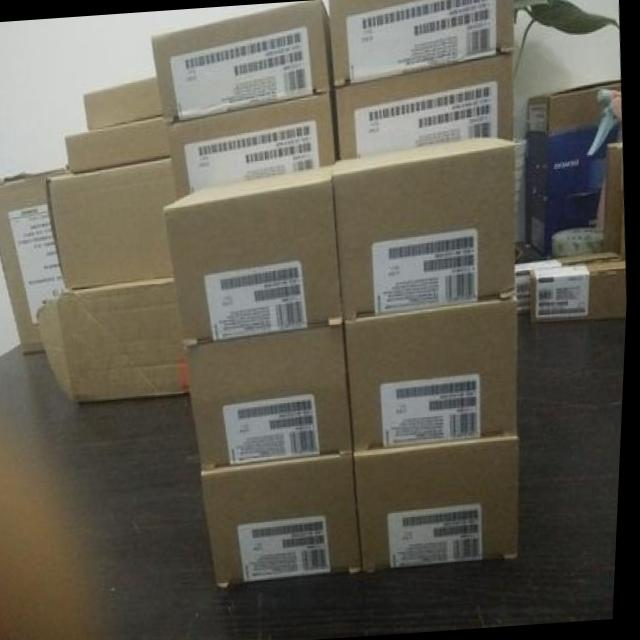box: (333, 136, 518, 320), (166, 164, 344, 346), (347, 299, 522, 452), (187, 323, 356, 471), (357, 437, 524, 574), (204, 456, 369, 593), (151, 0, 332, 124), (40, 277, 192, 402), (335, 52, 514, 158), (169, 92, 337, 198), (50, 158, 180, 290), (527, 79, 622, 258), (328, 0, 514, 87), (0, 172, 67, 356), (519, 252, 624, 317), (532, 259, 629, 320), (68, 119, 172, 172), (84, 77, 164, 131)
